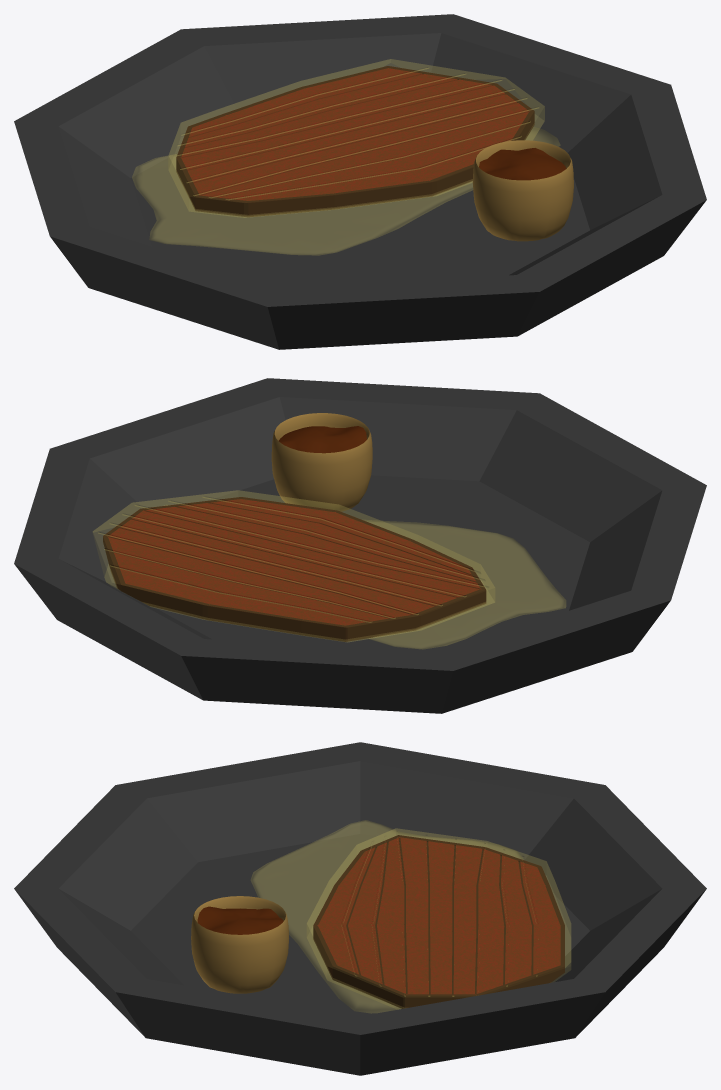
Rendered from glased wolf meat.fbx.
3 renders of one model, top to bottom at view 1: azimuth 30°, elevation 25°; view 2: azimuth 150°, elevation 25°; view 3: azimuth 270°, elevation 25°, orthographic. The views are drawn at different scales.
Parts seen in each view (by area): view 1: plate.001; view 2: plate.001; view 3: plate.001.
Boxes of the visible parts, left/top/right/bottom form: plate.001: left=14, top=14, right=706, bottom=349; plate.001: left=14, top=378, right=706, bottom=713; plate.001: left=14, top=742, right=706, bottom=1075.
Size of the model in its own units: 302 by 46.57 by 302.
